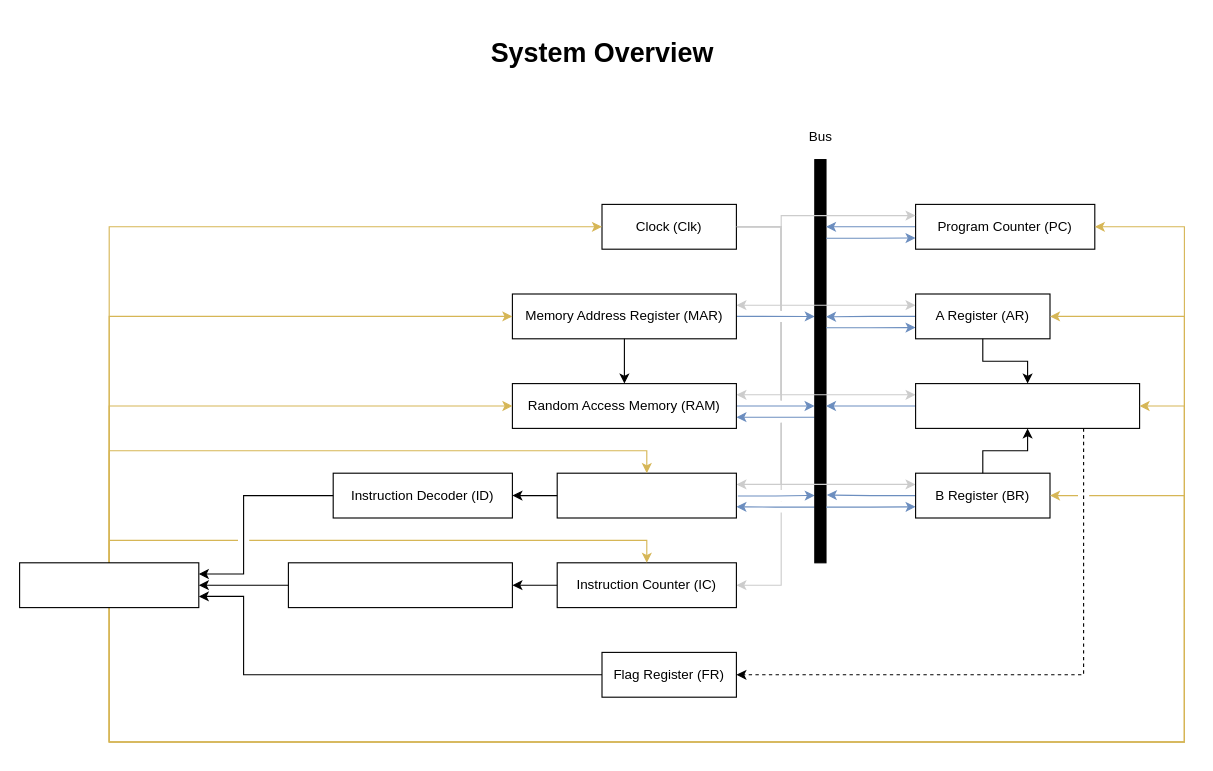
This 1213x771 diagram has some shape labels left out. Each missing label, with the centre of its shape:
"Arithmetic Logic Unit (ALU)" belongs at (1027,405).
"Control Logic (CL)" belongs at (108,585).
"Instruction Counter Decoder (ICD)" belongs at (399,585).
"Instruction Register (IR)" belongs at (646,495).
